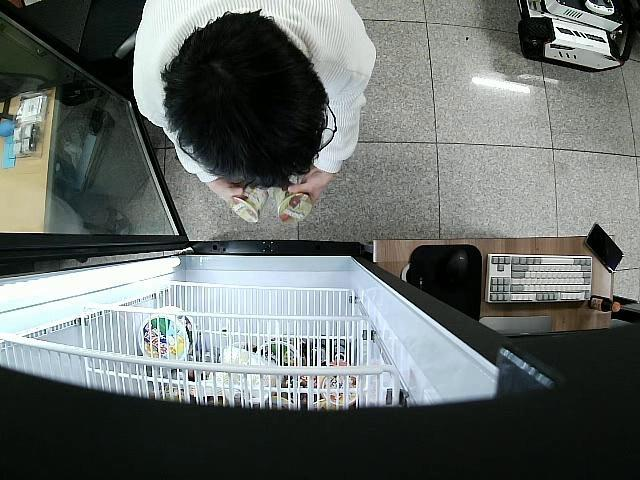04_chapagetti_S: (230, 186, 271, 225), (272, 187, 311, 225)
